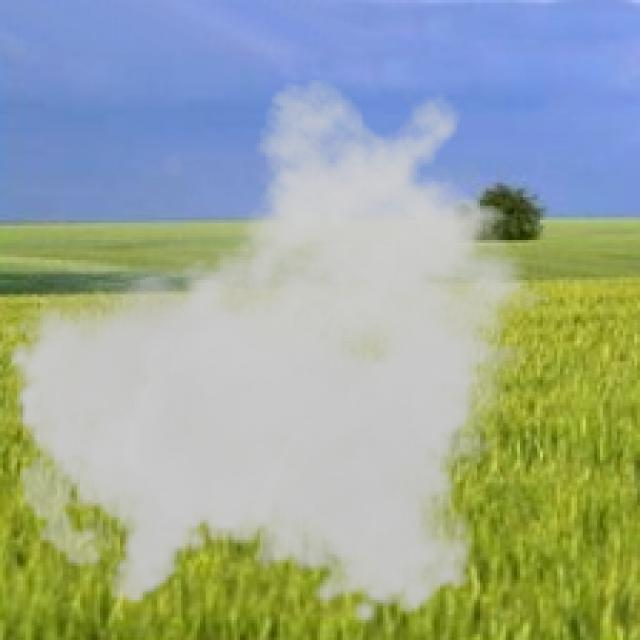Smoke: (2, 77, 572, 629)
